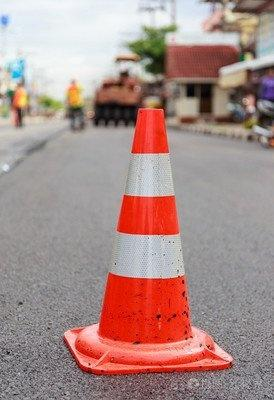cone_barrel: (83, 110, 211, 360)
